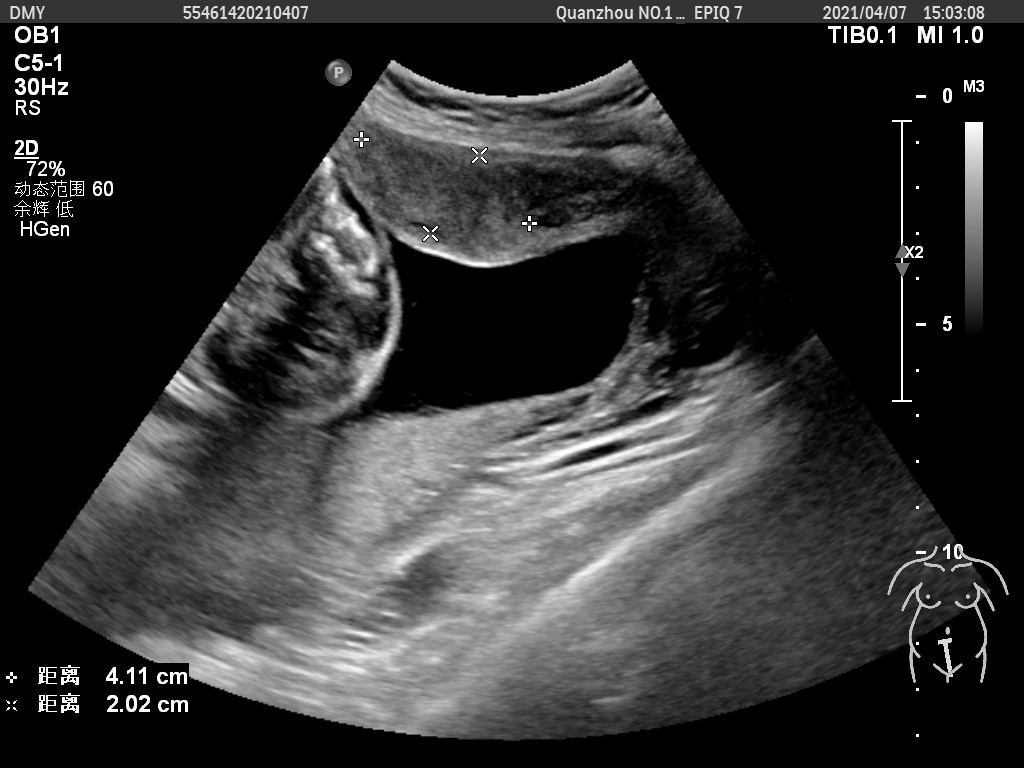肌瘤: (361, 141, 528, 226)
